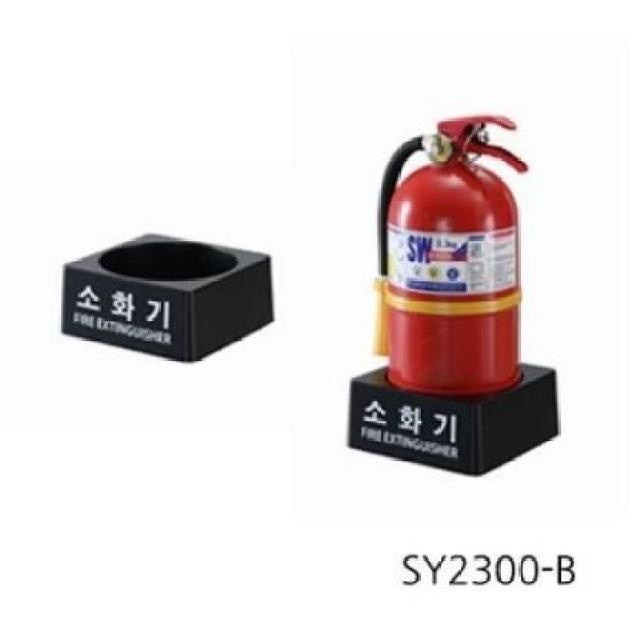fire extinguisher: (370, 114, 528, 391)
